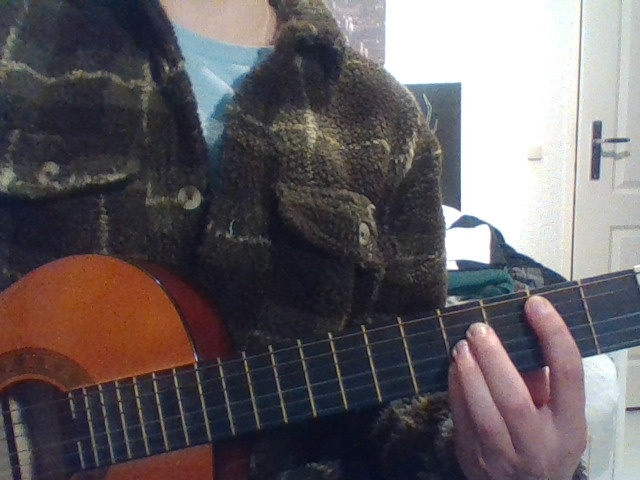B: (423, 280, 614, 480)
